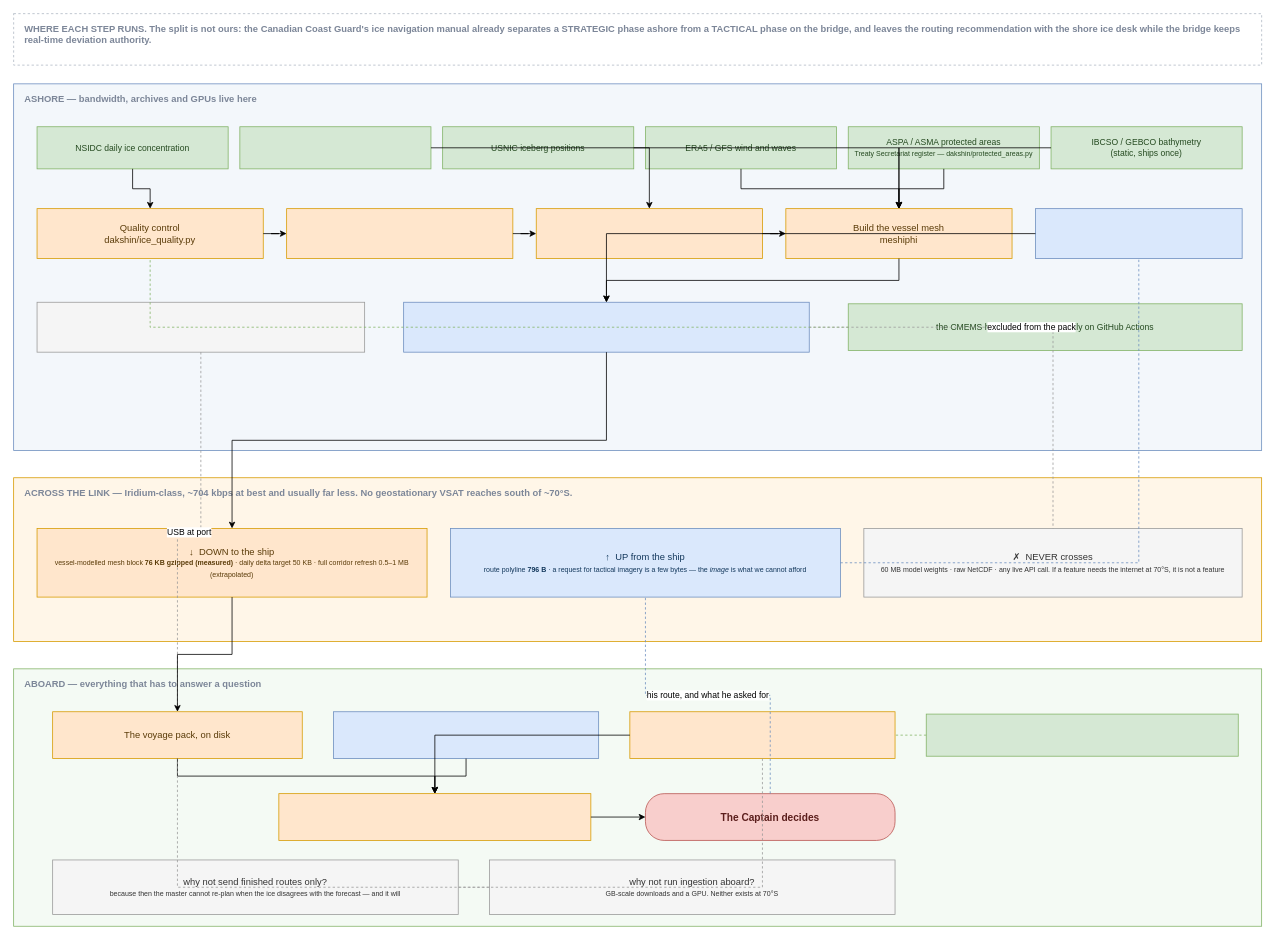
The diagram is 1275 pixels wide and 940 high, and some of its shapes have lost their labels. The shapes that lost their labels are listed below. From the top down, each one's centre as x and y in pixels, then its label:
the point at 335,147: CMEMS sea-ice forecast
the point at 399,233: Train the U-Net (GPU — never at sea)
the point at 648,233: Inference + conformal → SIC_upper
the point at 1138,233: Fulfil imagery requests from the ship
the point at 200,326: Model weights ~60 MB never over the satellite link — USB stick at port
the point at 606,326: Build and sign the voyage pack
the point at 466,735: The ship's own sensors radar, AIS, shaft power, met, helicopter recon
the point at 762,735: PolarRoute — routes are computed here, locally
the point at 1081,734: so the master can re-plan with no link at all
the point at 434,816: The decision flow in v1.drawio
